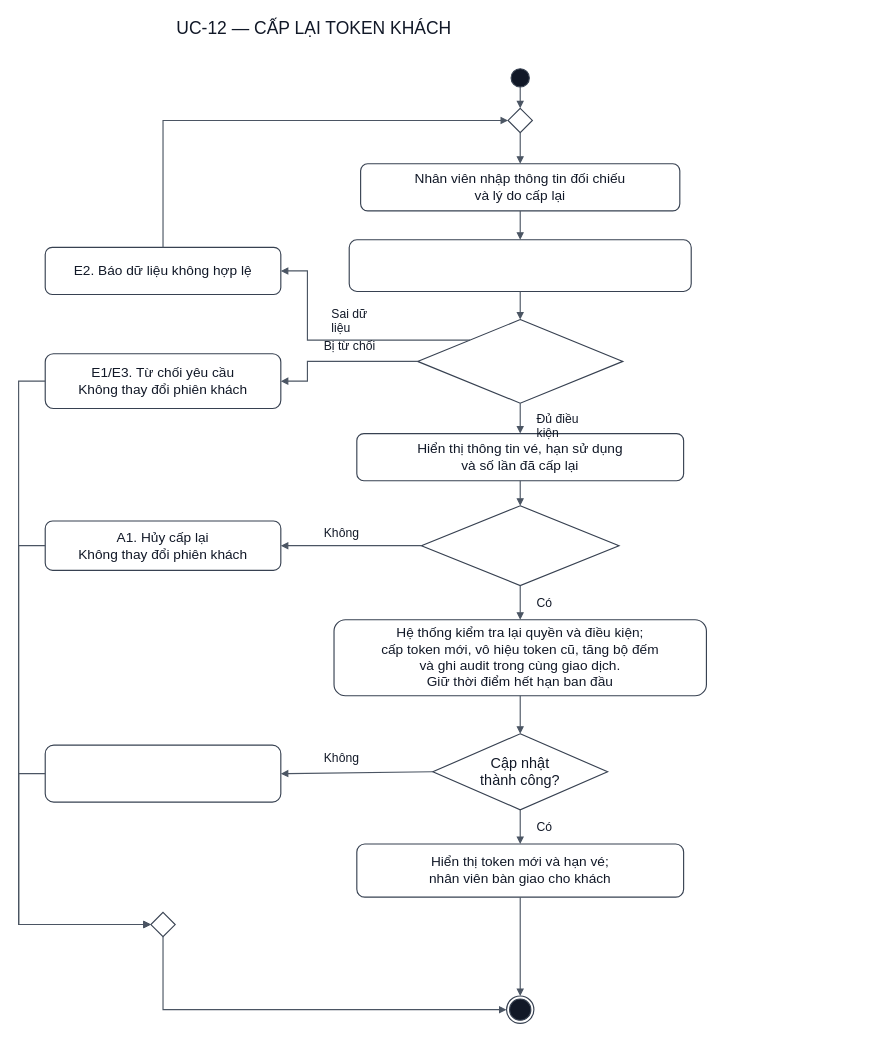
Some shapes in this 888 by 1037 pixel diagram are drawn without their labels. The shapes that lost their labels are listed below. From the top down, each one's centre as x and y in pixels, then its label:
(x=519, y=265): Hệ thống kiểm tra quyền, dữ liệu; đối chiếu phiên và giao dịch đã thanh toán
(x=520, y=361): Kết quả kiểm tra?
(x=520, y=545): Nhân viên xác nhận cấp lại?
(x=162, y=773): E1/E3/E4. Từ chối hoặc báo lỗi Lỗi cập nhật: rollback toàn bộ
